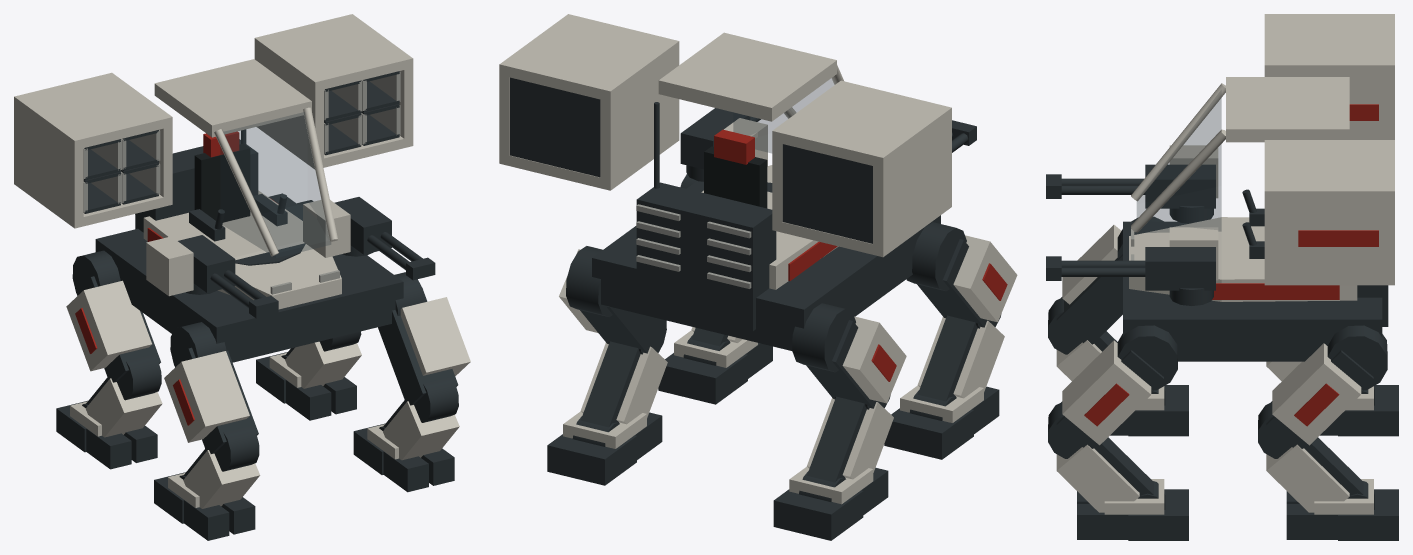
3 views of the same model, side by side, from view 1: azimuth 30°, elevation 25°; view 2: azimuth 150°, elevation 25°; view 3: azimuth 270°, elevation 25° (orthographic). The views are drawn at different scales.
Parts seen in each view (by area): view 1: mech-torso-painted, mech-silo-left-painted, mech-silo-right-painted, mech-torso-glazing, mech-hip-1-painted, mech-hip-0-painted, mech-hip-3-painted, mech-seat-pilot-painted, mech-knee-1-painted, mech-knee-3-painted, mech-knee-0-painted, mech-ankle-1-painted (+8 smaller); view 2: mech-torso-painted, mech-silo-left-painted, mech-silo-right-painted, mech-hip-0-painted, mech-hip-1-painted, mech-ankle-0-painted, mech-ankle-2-painted, mech-ankle-1-painted, mech-knee-2-painted, mech-ankle-3-painted, mech-knee-1-painted, mech-knee-0-painted (+5 smaller); view 3: mech-torso-painted, mech-silo-right-painted, mech-silo-left-painted, mech-hip-3-painted, mech-hip-2-painted, mech-torso-glazing, mech-knee-2-painted, mech-knee-3-painted, mech-ankle-2-painted, mech-ankle-3-painted, mech-mg-pitch-right-painted, mech-hip-1-painted (+10 smaller).
Boxes of the visible parts, bbox=[...] form: mech-torso-painted: bbox=[95, 59, 403, 362]; mech-silo-left-painted: bbox=[14, 72, 172, 228]; mech-silo-right-painted: bbox=[254, 14, 413, 169]; mech-torso-glazing: bbox=[220, 112, 330, 257]; mech-hip-1-painted: bbox=[164, 322, 258, 453]; mech-hip-0-painted: bbox=[66, 250, 160, 382]; mech-hip-3-painted: bbox=[378, 272, 470, 405]; mech-seat-pilot-painted: bbox=[189, 131, 287, 241]; mech-knee-1-painted: bbox=[183, 425, 260, 508]; mech-knee-3-painted: bbox=[383, 376, 459, 460]; mech-knee-0-painted: bbox=[85, 354, 162, 437]; mech-ankle-1-painted: bbox=[154, 472, 255, 540]; mech-torso-painted: bbox=[592, 32, 940, 350]; mech-silo-left-painted: bbox=[772, 80, 951, 257]; mech-silo-right-painted: bbox=[499, 14, 679, 190]; mech-hip-0-painted: bbox=[792, 303, 906, 408]; mech-hip-1-painted: bbox=[906, 222, 1017, 327]; mech-ankle-0-painted: bbox=[773, 466, 888, 540]; mech-ankle-2-painted: bbox=[547, 411, 662, 485]; mech-ankle-1-painted: bbox=[884, 385, 999, 459]; mech-knee-2-painted: bbox=[580, 320, 667, 427]; mech-ankle-3-painted: bbox=[658, 330, 772, 404]; mech-knee-1-painted: bbox=[917, 314, 1004, 401]; mech-knee-0-painted: bbox=[807, 395, 893, 482]; mech-torso-painted: bbox=[1123, 77, 1388, 361]; mech-silo-right-painted: bbox=[1264, 140, 1394, 285]; mech-silo-left-painted: bbox=[1264, 14, 1394, 139]; mech-hip-3-painted: bbox=[1056, 325, 1177, 448]; mech-hip-2-painted: bbox=[1266, 325, 1387, 448]; mech-torso-glazing: bbox=[1137, 91, 1221, 232]; mech-knee-2-painted: bbox=[1258, 402, 1363, 512]; mech-knee-3-painted: bbox=[1048, 402, 1153, 512]; mech-ankle-2-painted: bbox=[1286, 479, 1398, 540]; mech-ankle-3-painted: bbox=[1077, 479, 1188, 540]; mech-mg-pitch-right-painted: bbox=[1046, 247, 1215, 290]; mech-hip-1-painted: bbox=[1056, 216, 1163, 344].
Size of the model in its own units: 17.25 by 16.84 by 14.45.
